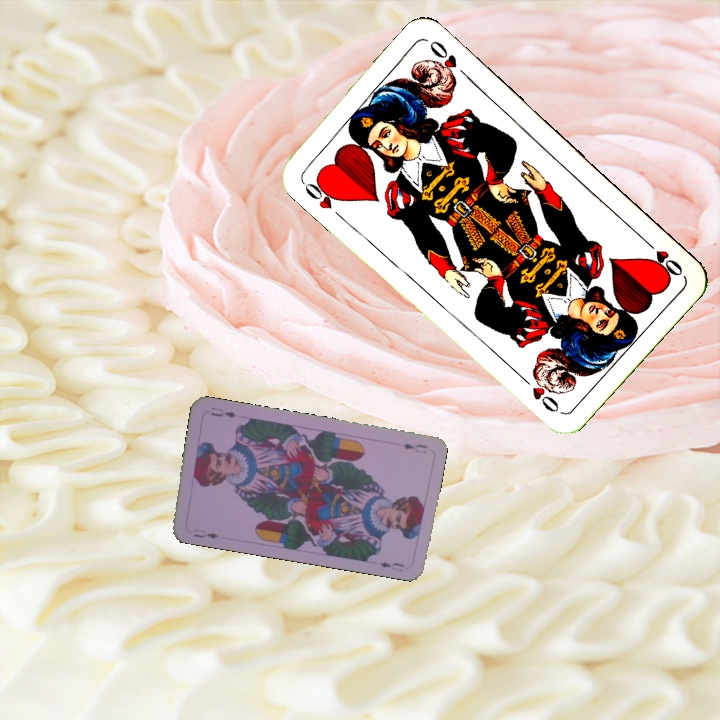EU: (398, 439, 430, 456), (189, 525, 220, 541)
HO: (638, 233, 686, 279), (297, 174, 345, 212)
